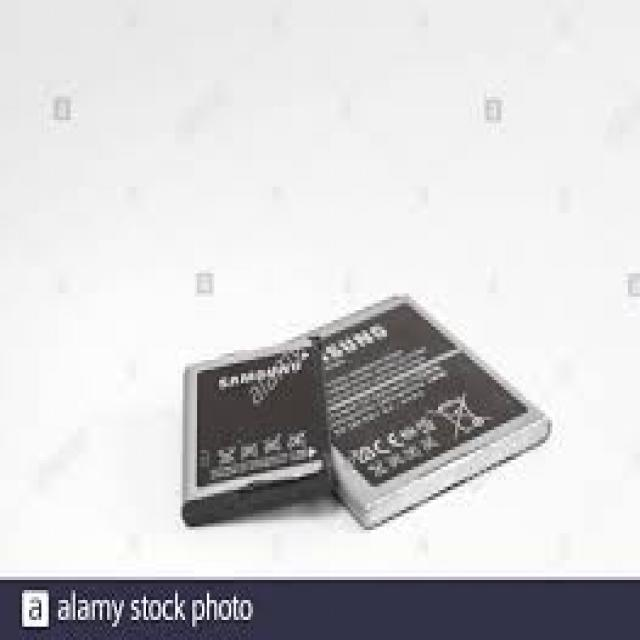battery: (315, 293, 552, 537), (182, 332, 332, 529)
